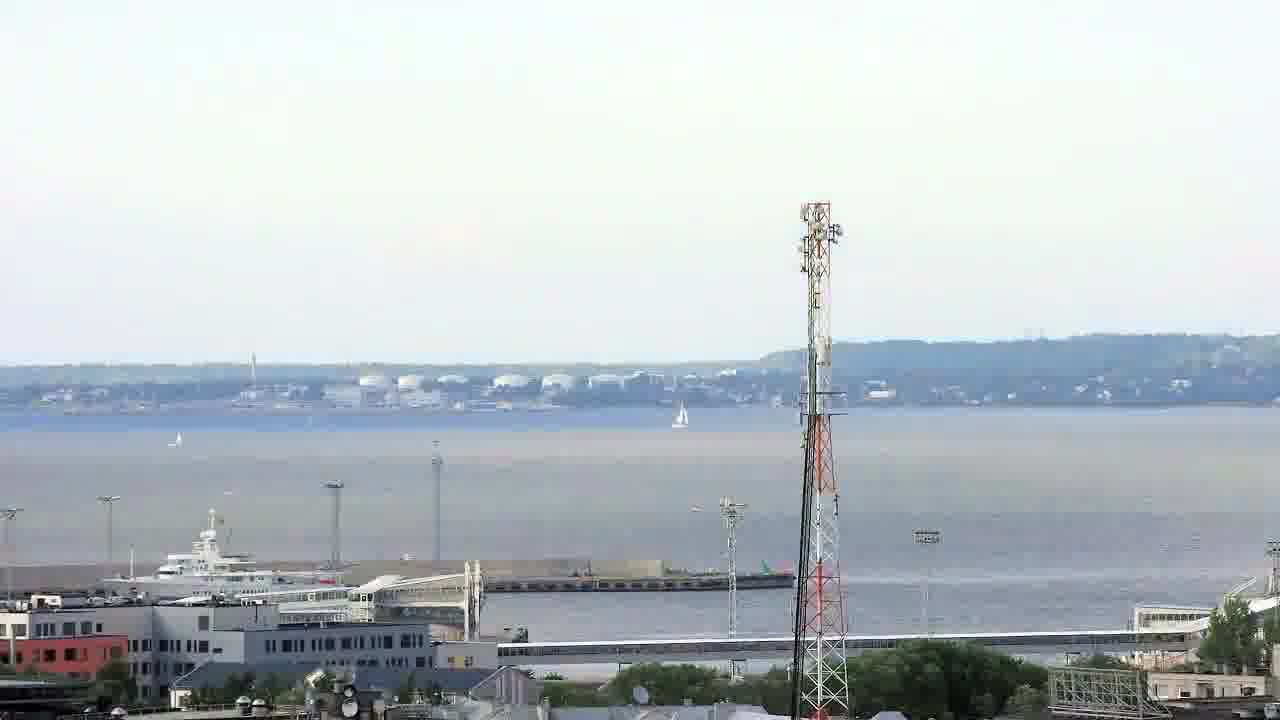type-2: (651, 385, 707, 444)
type-3: (88, 507, 346, 605)
